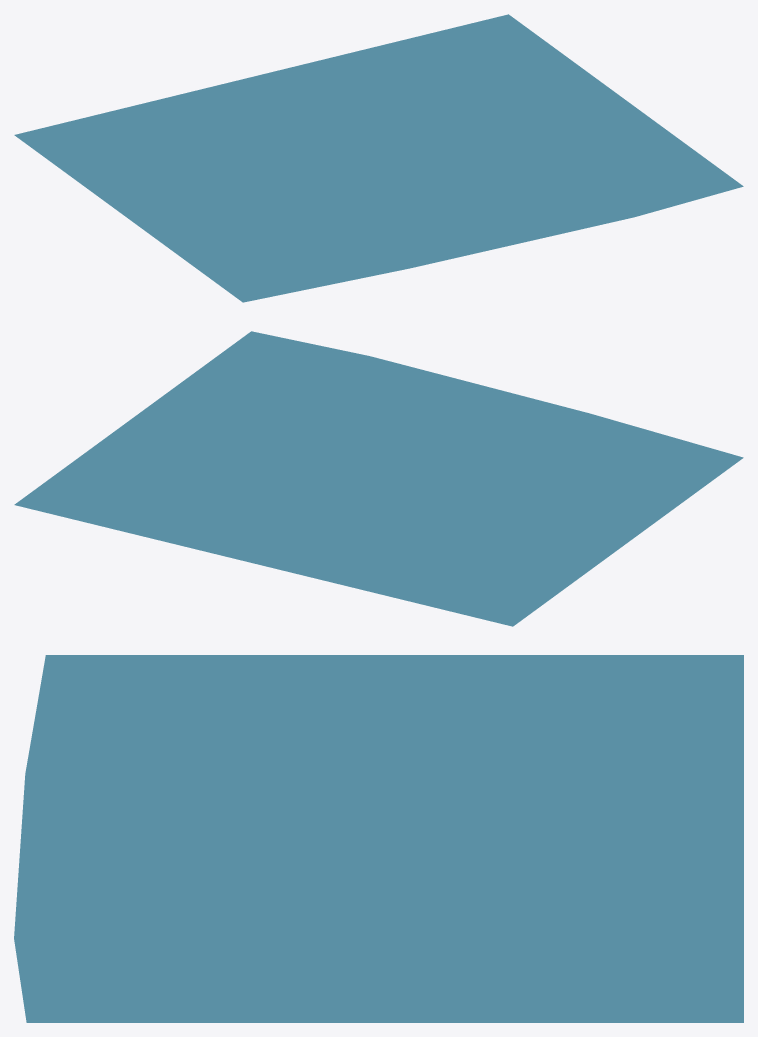
The model's file is nature_17_-2.glb.
The picture shows the model from 3 angles, top to bottom: view 1: azimuth 30°, elevation 25°; view 2: azimuth 150°, elevation 25°; view 3: azimuth 270°, elevation 25°; orthographic projection. The views are drawn at different scales.
Parts seen in each view (by area): view 1: water; view 2: water; view 3: water.
Boxes of the visible parts, <box> form: water: <box>14,14,743,302</box>; water: <box>14,331,743,626</box>; water: <box>14,655,743,1022</box>.
Bounding box in the file's own units: 250 × 0 × 210.
